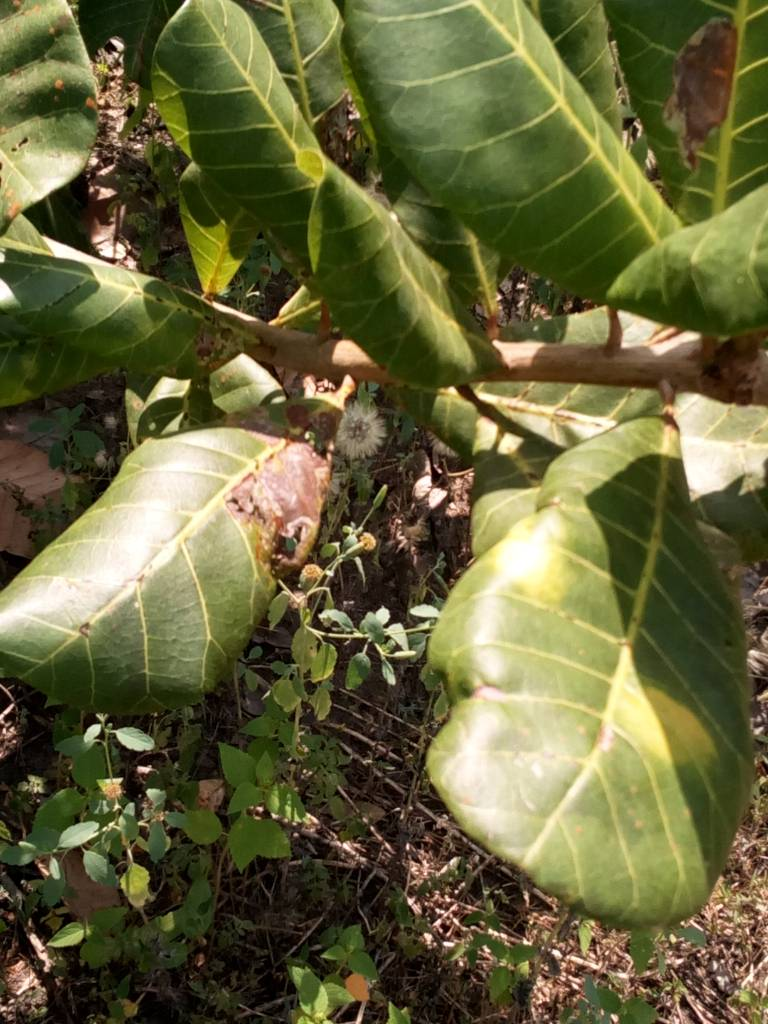Dysdercus wolkerii: (1, 391, 405, 741), (597, 2, 768, 221)
